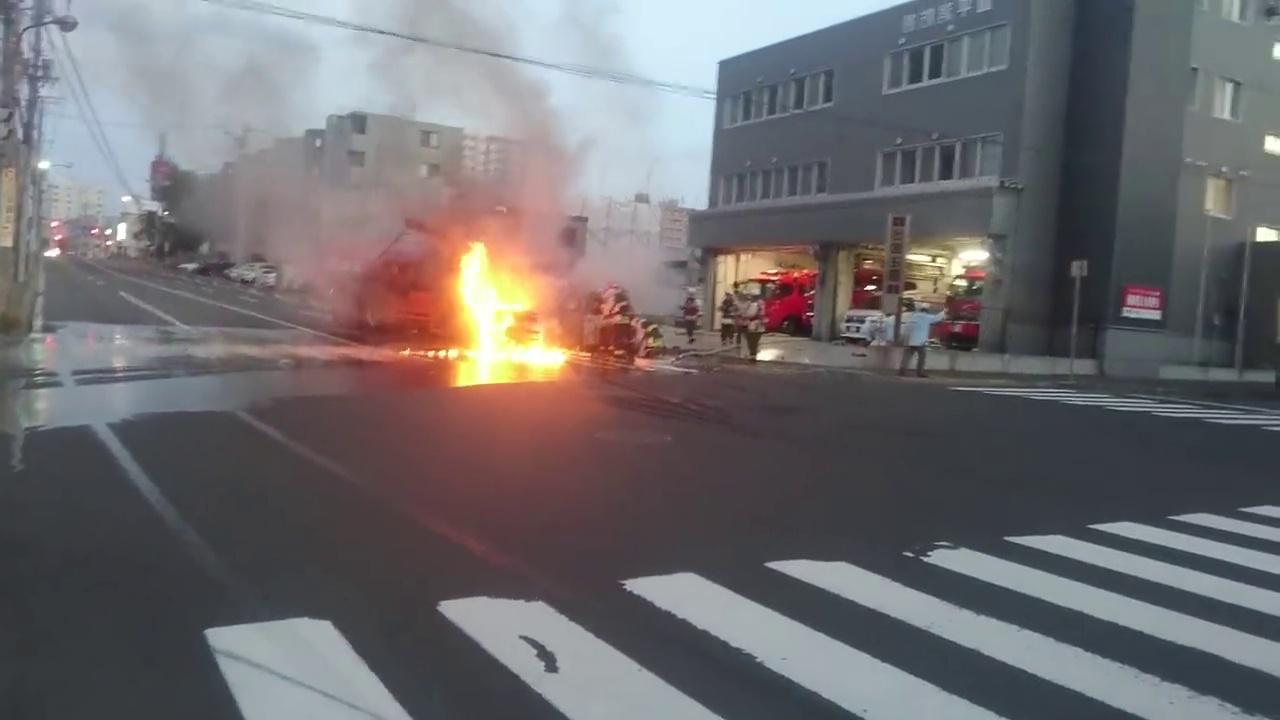Fire: (401, 243, 580, 364)
